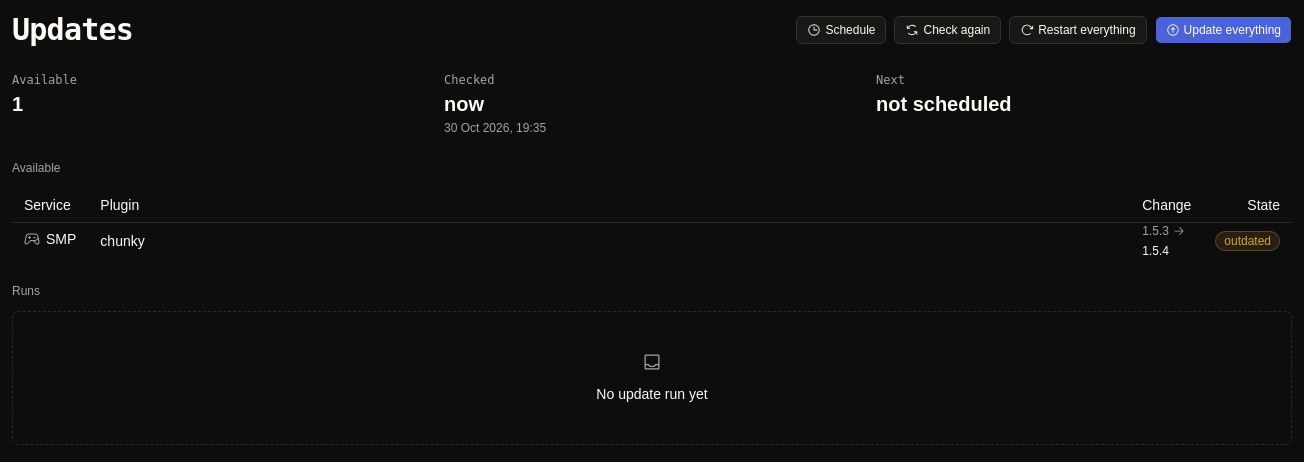
Scenario: the available card › asks the sources again when the button is pressed, and redraws from that answer
expect the text "1.5.4" is shown: met, box 1142,242 -> 1169,258
Step 1. Click the button "Check again" → point(948, 30), box 894,16 -> 1001,44
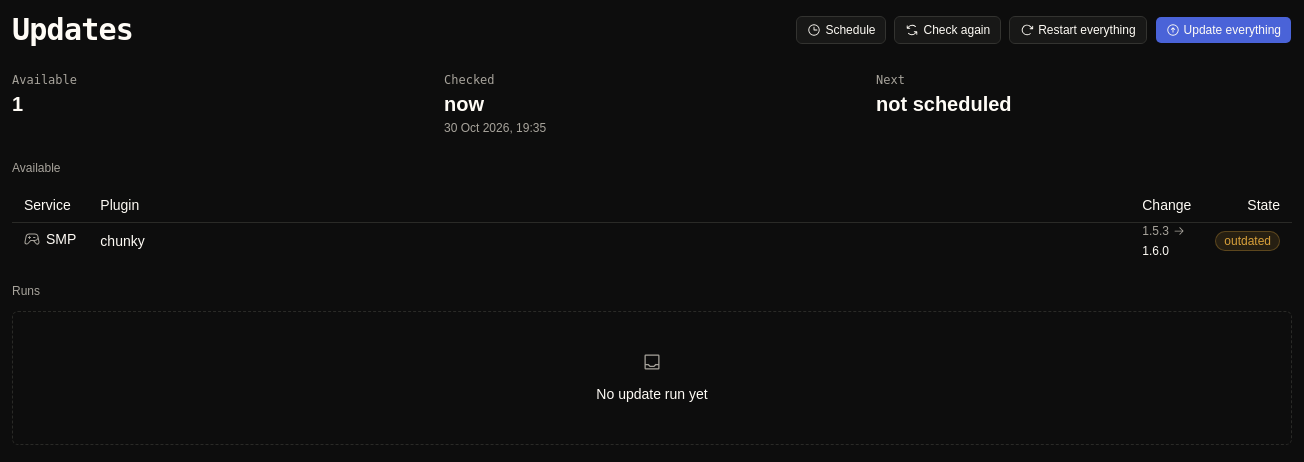
expect the text "1.6.0" is shown: met, box 1142,242 -> 1169,258
